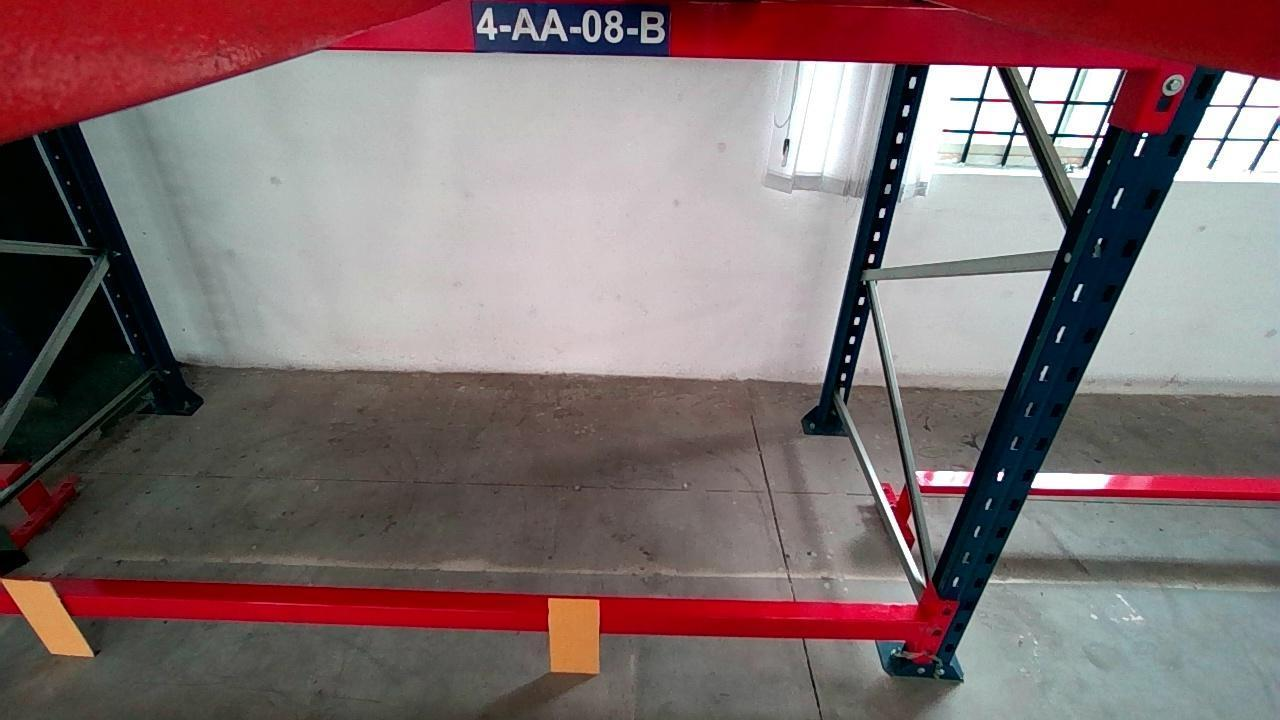h_rack: (333, 0, 1150, 67), (0, 586, 926, 643)
orange_strip: (4, 578, 93, 655), (546, 597, 599, 673)
